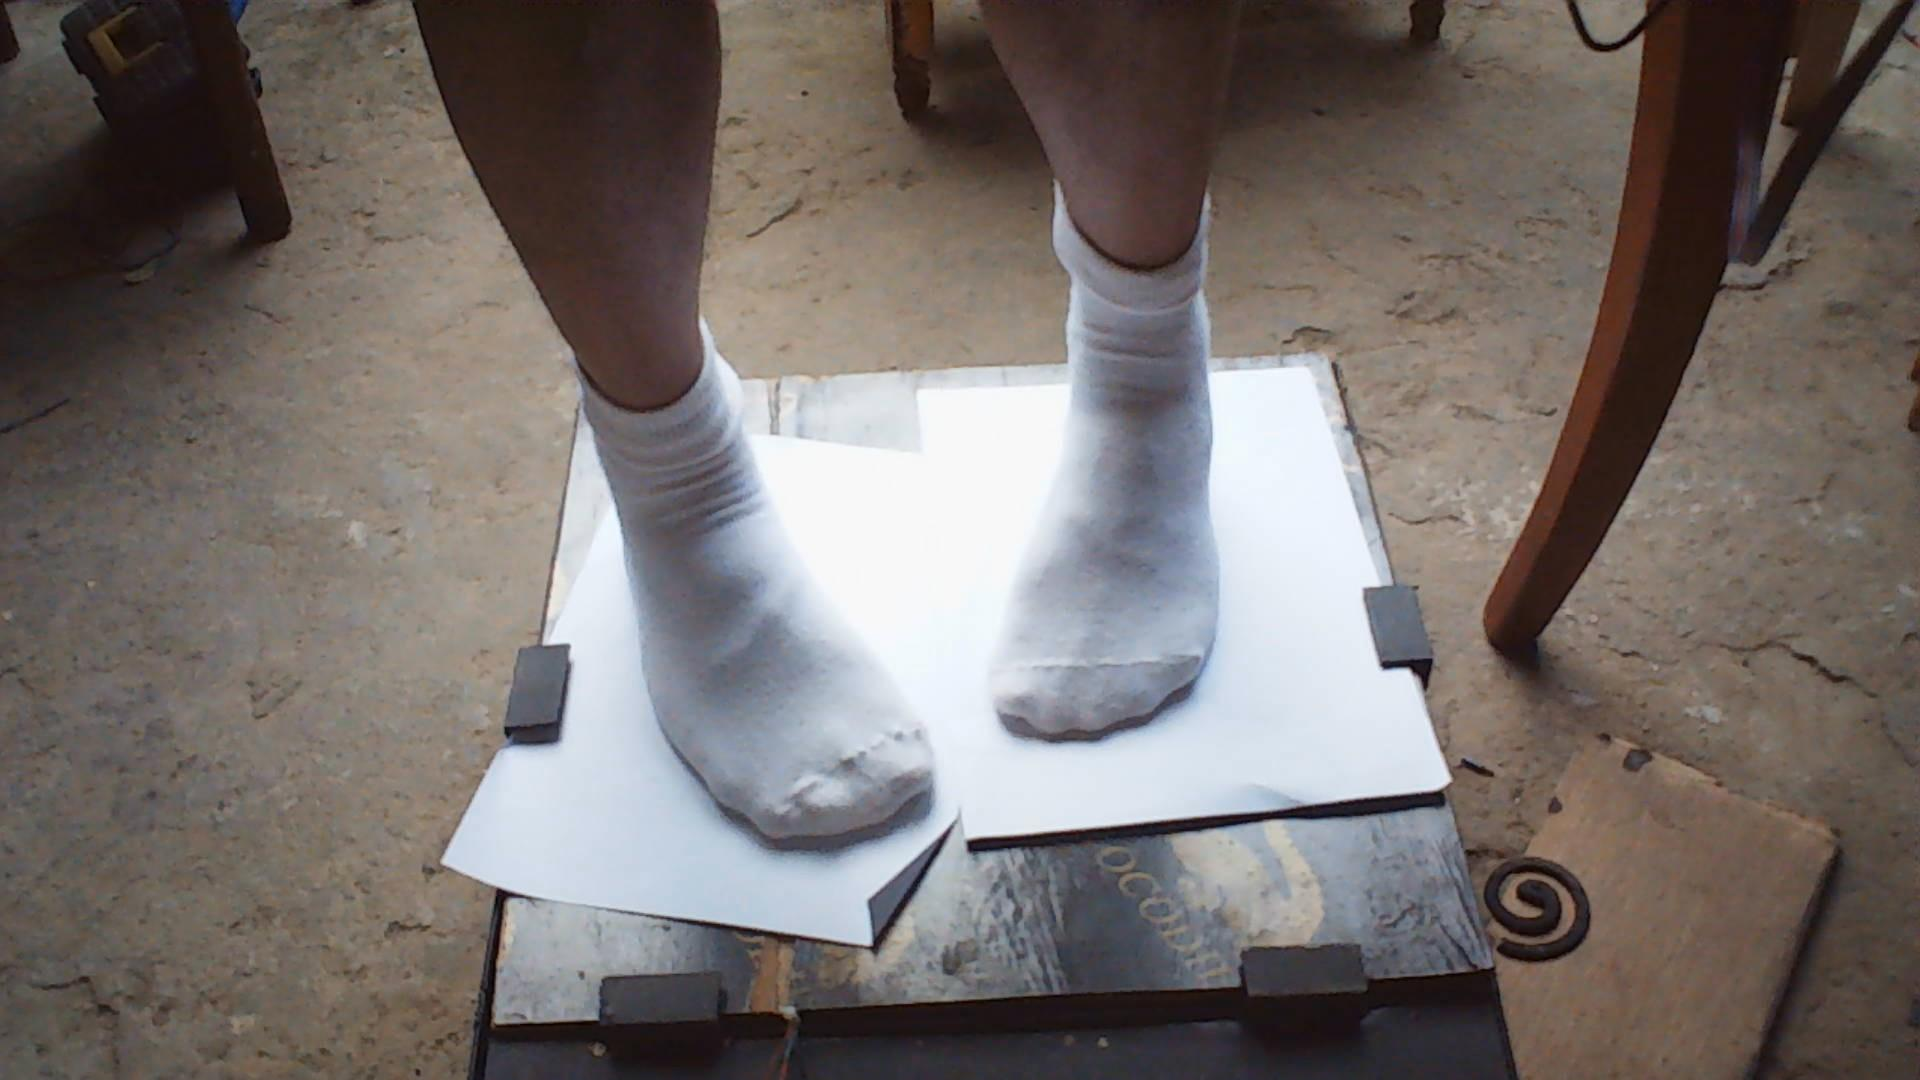white_socks: (480, 252, 972, 870), (972, 145, 1245, 765)
